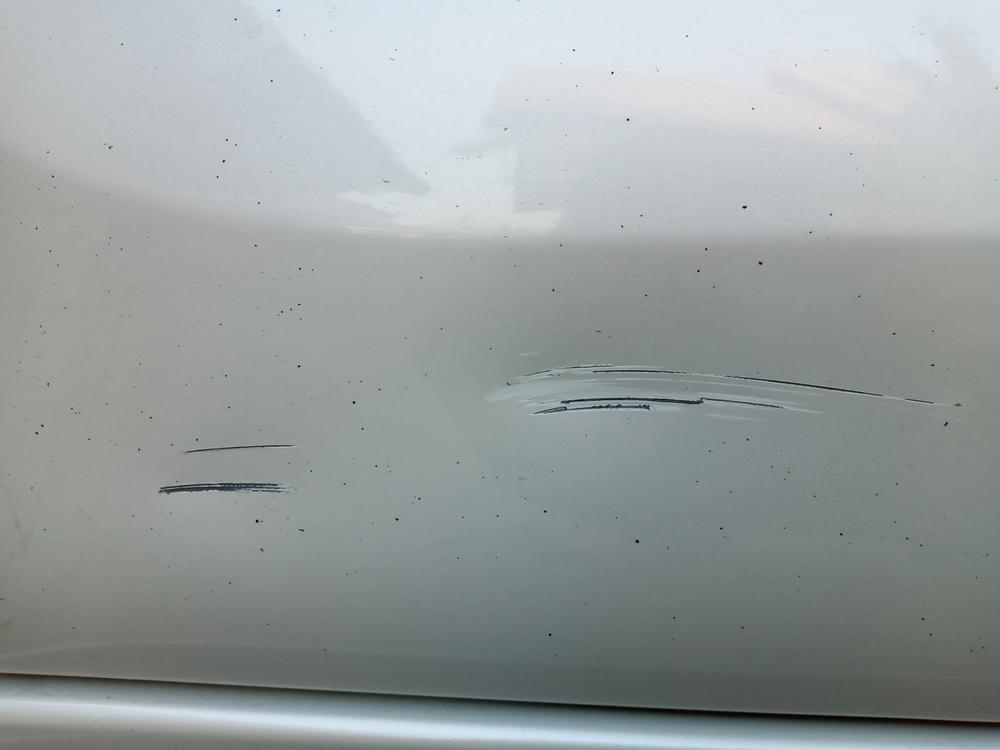scratch: (485, 354, 974, 427), (145, 434, 319, 503)
